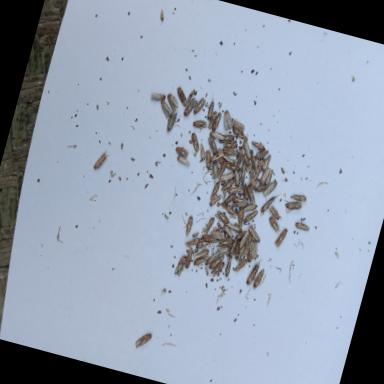pbw: (92, 148, 112, 174), (245, 257, 261, 288), (156, 100, 177, 122), (282, 198, 304, 218), (199, 216, 215, 242), (172, 86, 190, 108), (164, 92, 182, 114), (134, 331, 152, 352), (220, 110, 236, 133), (186, 132, 200, 158), (242, 232, 256, 258), (265, 216, 283, 236), (262, 178, 278, 200), (174, 253, 188, 278), (183, 96, 198, 119), (274, 226, 289, 249), (221, 203, 240, 221), (243, 184, 260, 204), (208, 253, 225, 273), (204, 248, 220, 269), (252, 268, 266, 292), (206, 93, 218, 121), (201, 148, 215, 172), (245, 226, 263, 244), (190, 118, 208, 136), (148, 92, 166, 110), (192, 251, 210, 269), (220, 191, 237, 210), (234, 207, 248, 230), (220, 176, 236, 196), (266, 206, 286, 222), (204, 136, 220, 156), (222, 256, 235, 280), (243, 208, 259, 227), (210, 260, 225, 280), (165, 111, 178, 134), (184, 235, 201, 252), (192, 246, 210, 262), (209, 160, 222, 182), (239, 141, 254, 160), (193, 96, 207, 116), (238, 182, 252, 202), (212, 210, 232, 224), (196, 142, 209, 163), (219, 168, 236, 184), (234, 257, 248, 276), (210, 181, 222, 203), (182, 248, 194, 270), (234, 146, 246, 168), (252, 158, 264, 180), (260, 154, 272, 176), (288, 193, 308, 206), (244, 242, 256, 263), (184, 216, 195, 238), (228, 236, 239, 258), (210, 112, 222, 132), (219, 236, 235, 251), (238, 164, 250, 184), (258, 166, 270, 186), (220, 132, 236, 147), (246, 170, 260, 187), (230, 126, 247, 140), (231, 170, 244, 188), (217, 160, 228, 181), (222, 224, 236, 240), (253, 148, 269, 162), (228, 184, 244, 198), (242, 202, 258, 216), (194, 238, 210, 252), (208, 194, 222, 210), (240, 154, 254, 170), (254, 182, 270, 196), (239, 230, 250, 250), (236, 244, 247, 264), (249, 243, 261, 261), (222, 147, 240, 159), (226, 222, 244, 234), (232, 199, 250, 211), (214, 148, 226, 166), (207, 228, 225, 240), (294, 221, 310, 234), (248, 156, 261, 172), (210, 148, 223, 164), (208, 110, 218, 130), (216, 244, 230, 258), (174, 146, 190, 158), (222, 141, 238, 153), (232, 238, 242, 257), (225, 163, 242, 174), (231, 195, 248, 206), (264, 170, 274, 188), (176, 156, 192, 167), (203, 236, 220, 246), (232, 120, 246, 132), (210, 131, 226, 141), (222, 154, 236, 165), (186, 88, 195, 105), (236, 228, 248, 240), (250, 142, 266, 150), (202, 265, 212, 277), (158, 10, 166, 22), (192, 231, 200, 239)
